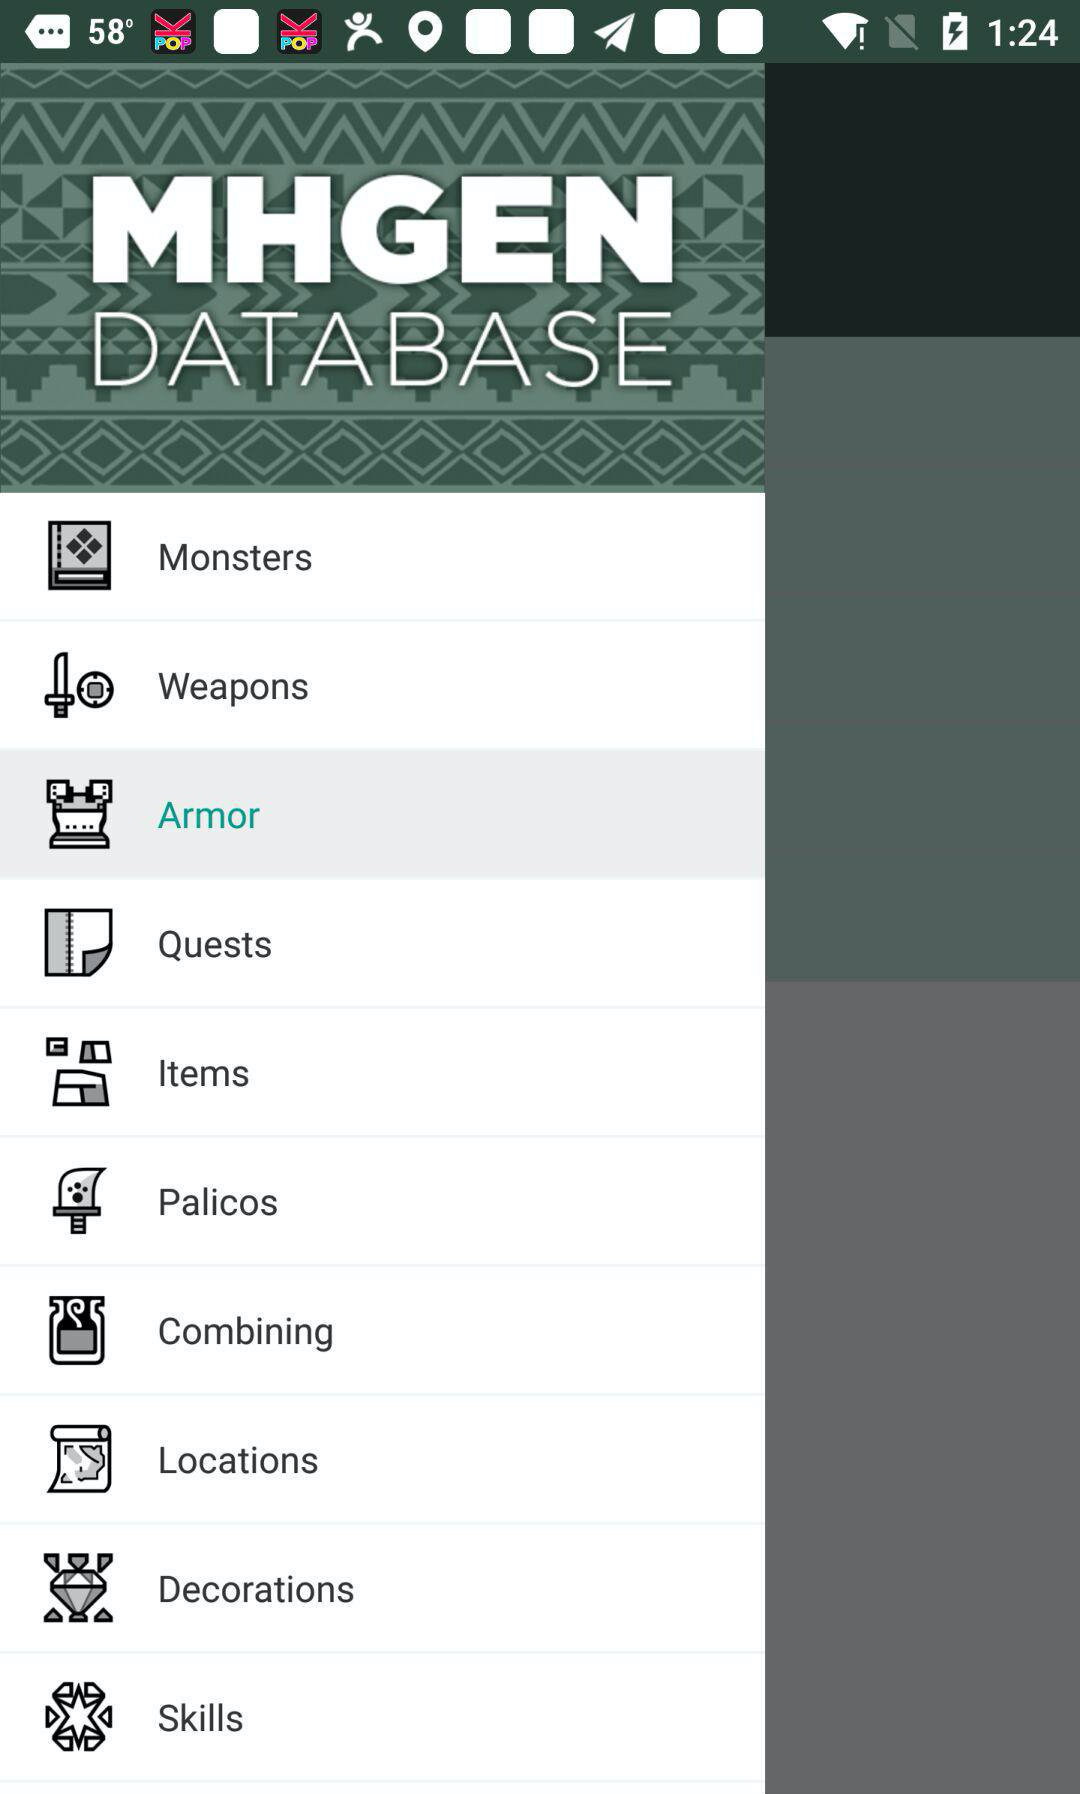Drawer: (1, 64, 765, 1794)
Image: (1, 64, 766, 495), (44, 1552, 115, 1624), (45, 778, 115, 850), (44, 651, 117, 720), (45, 1680, 114, 1752), (44, 909, 115, 978), (46, 1037, 114, 1108), (47, 1424, 114, 1494), (47, 522, 113, 593), (49, 1296, 108, 1366), (53, 1166, 109, 1235)
Text: (160, 533, 311, 580), (160, 662, 307, 710), (159, 1315, 333, 1353), (160, 1575, 355, 1604), (160, 1445, 319, 1475), (160, 929, 273, 962), (160, 1187, 278, 1217), (158, 801, 261, 830), (159, 1702, 243, 1732), (161, 1060, 250, 1088)
UpperTaskBar: (1, 1, 1080, 64)
